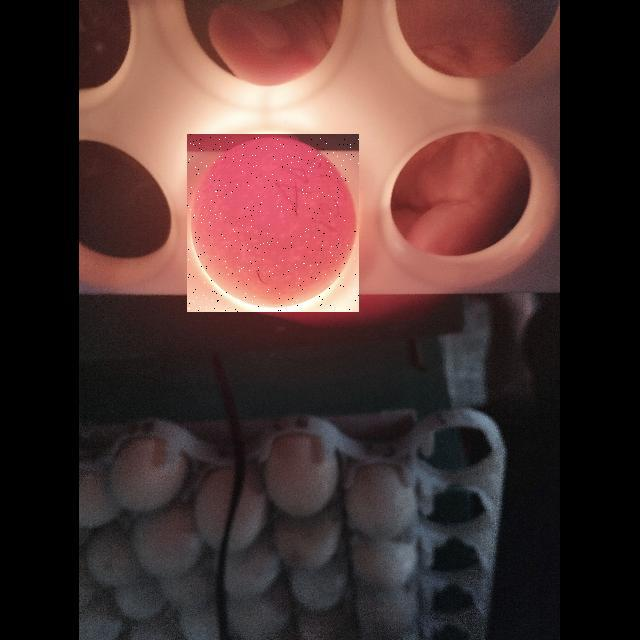Infertile: (187, 134, 359, 312)
